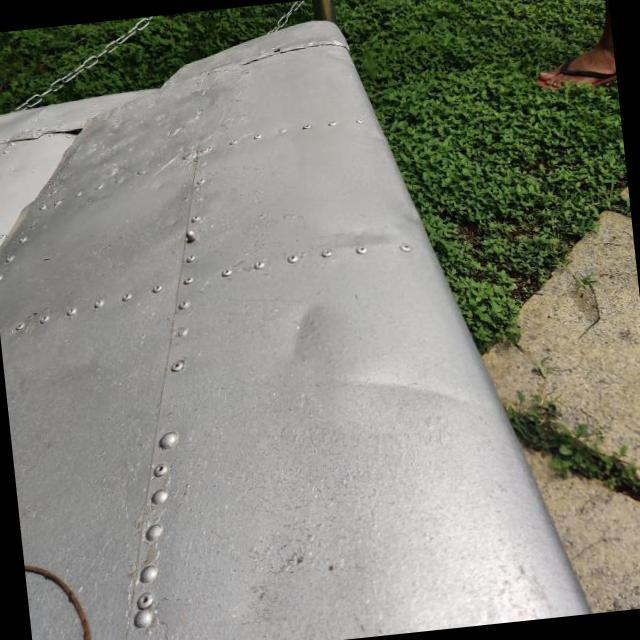Dent: (322, 328, 494, 449), (256, 274, 359, 375)
